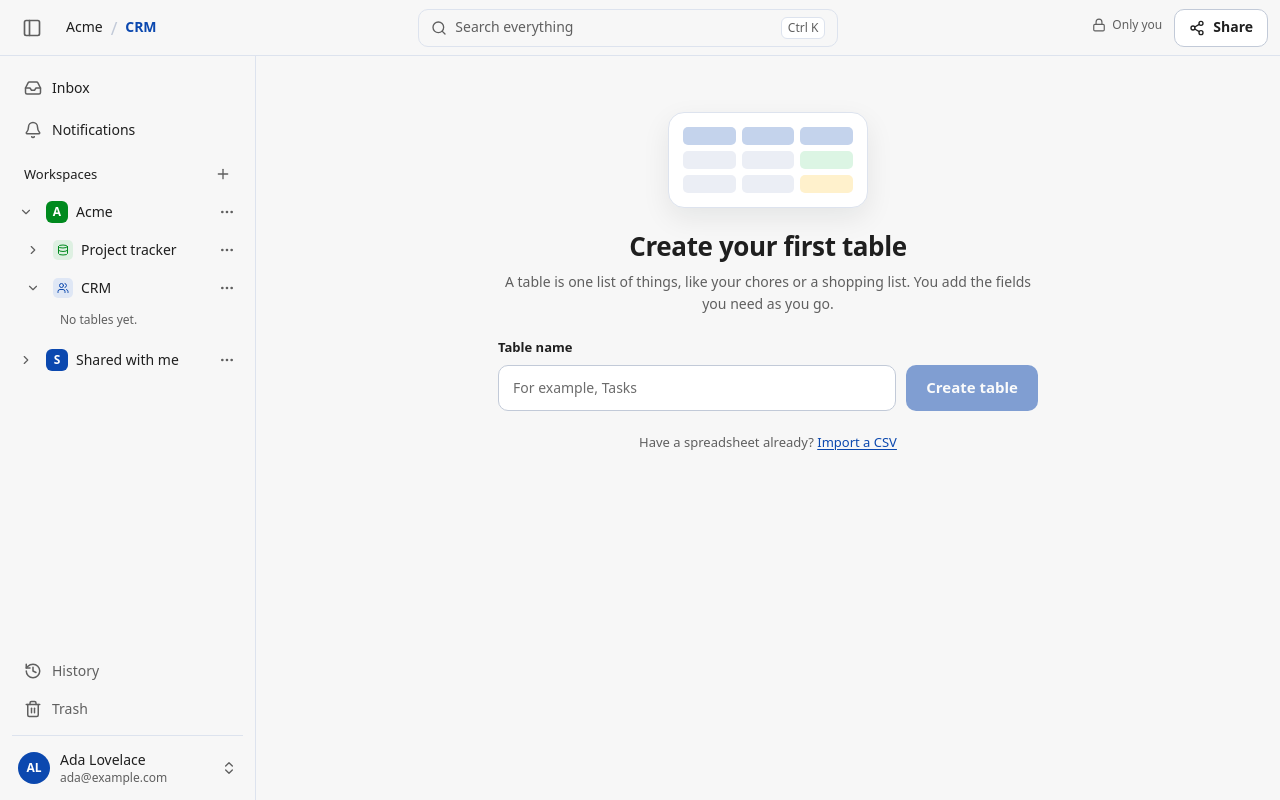
Test: the project menu in the tree › leaves a deleted project's own page for its workspace
The width and height of the screenshot is (1280, 800).
Expected: the heading "CRM" is shown, [125,17,156,38]
Step 1. Click the button named "Project options for CRM" → (227, 288), box [213,274,241,302]
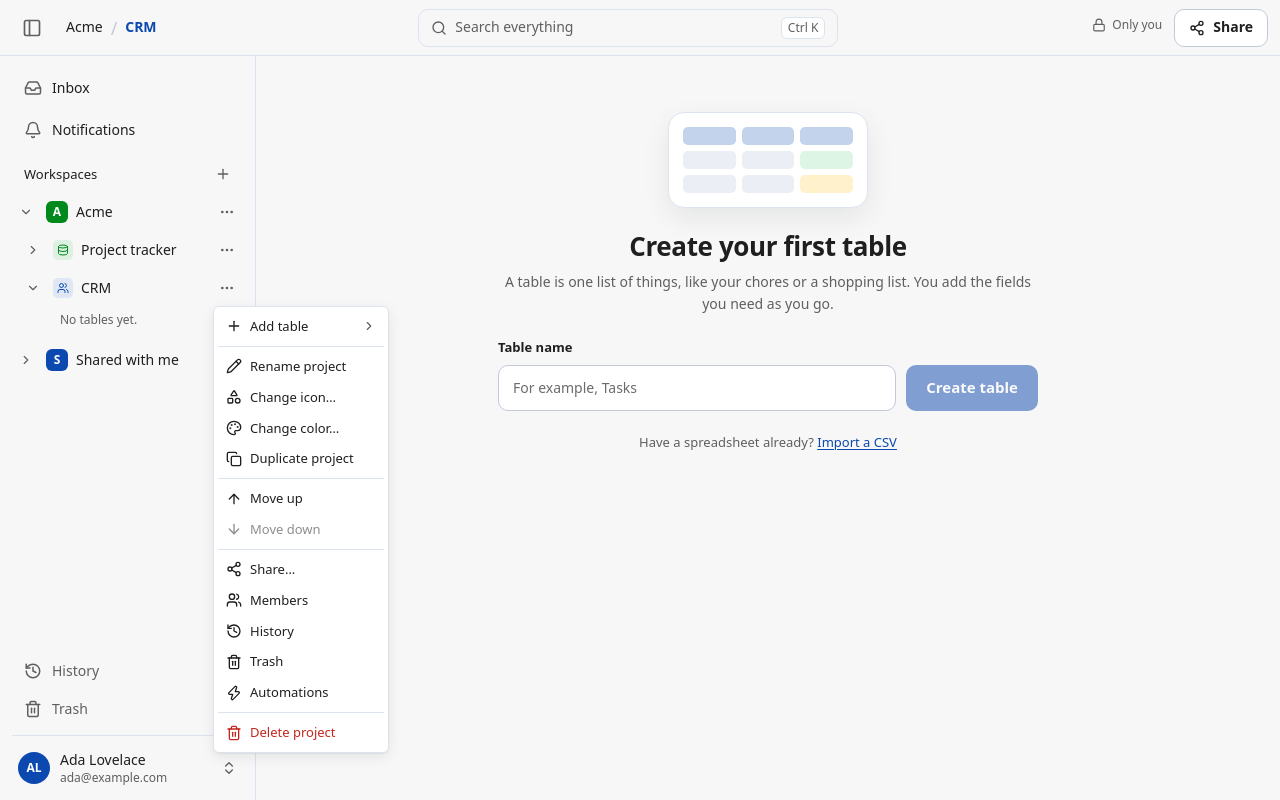
Step 2. Click the menu item "Delete project" → (281, 732), box [226,723,336,741]
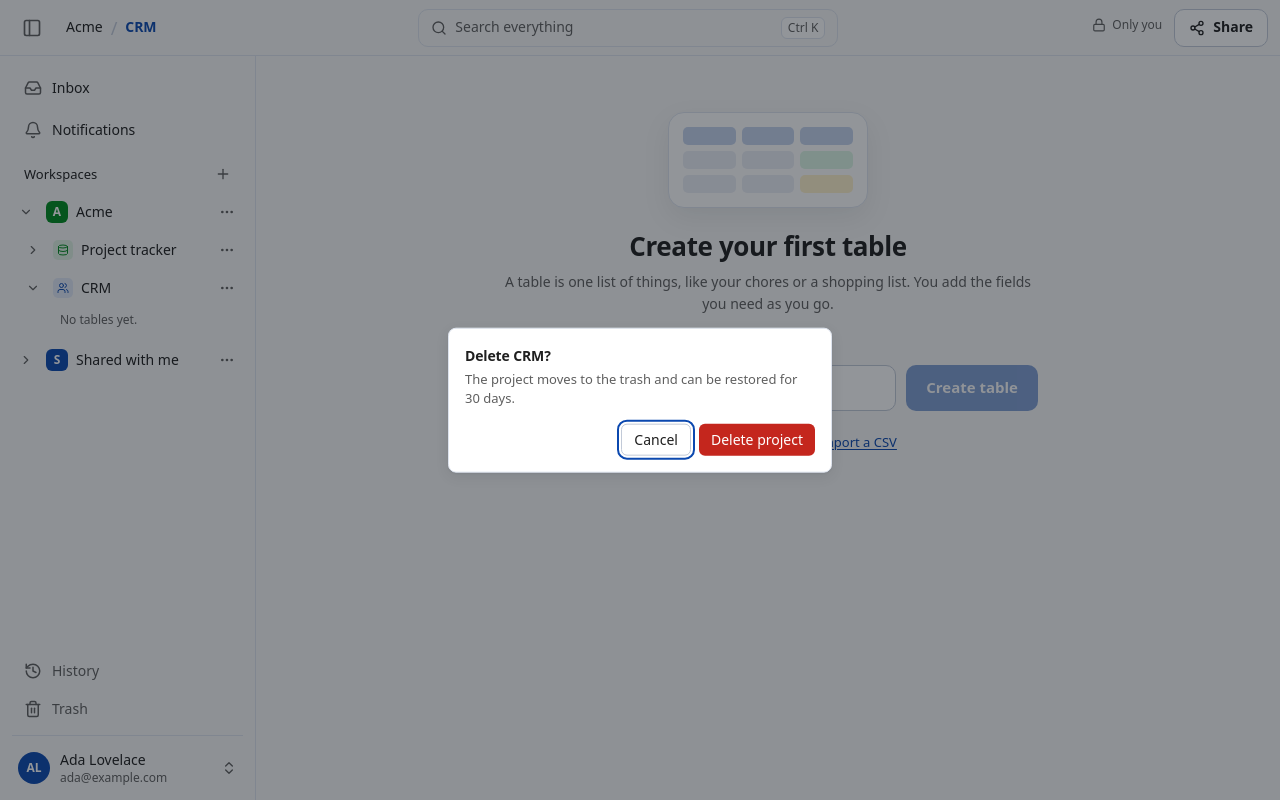
Step 3. Click the button "Delete project" → (757, 439), box [699,423,815,455]
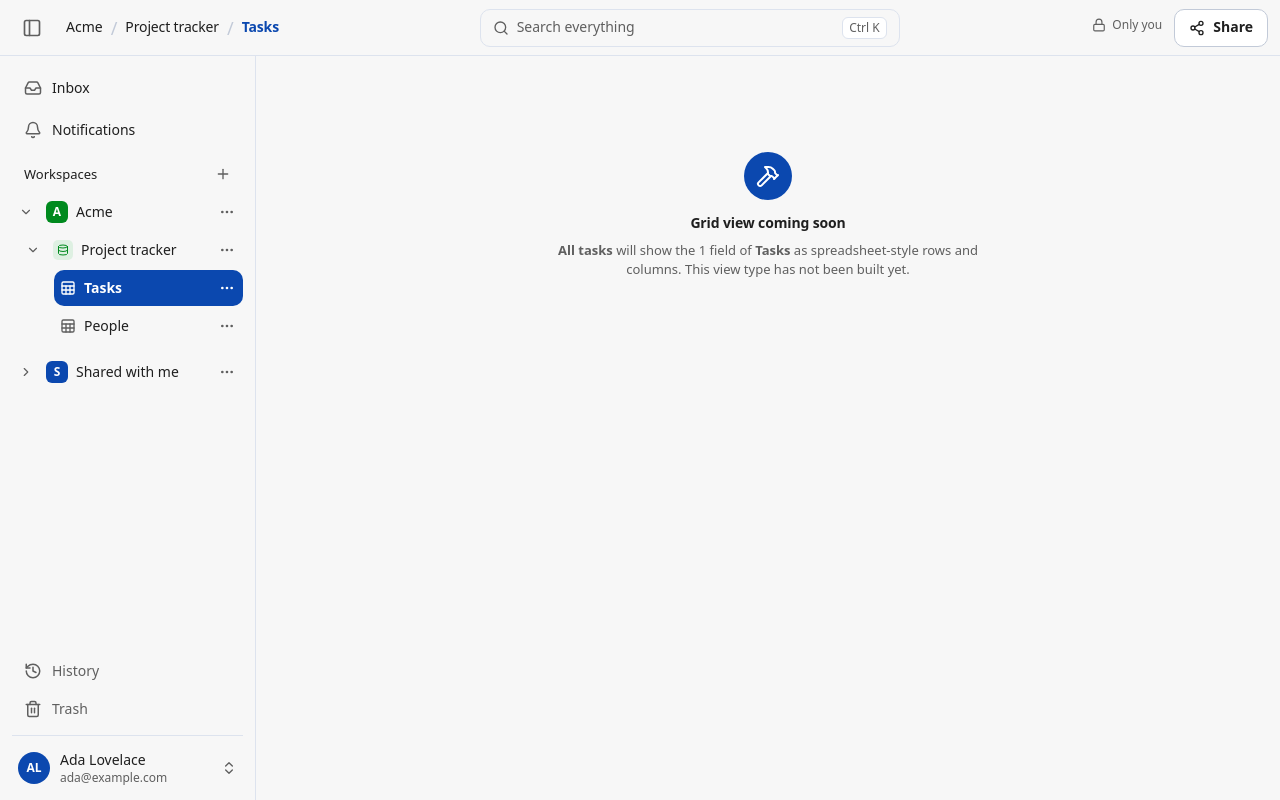
Now the heading "Project tracker" is shown, box [125,17,219,38]
